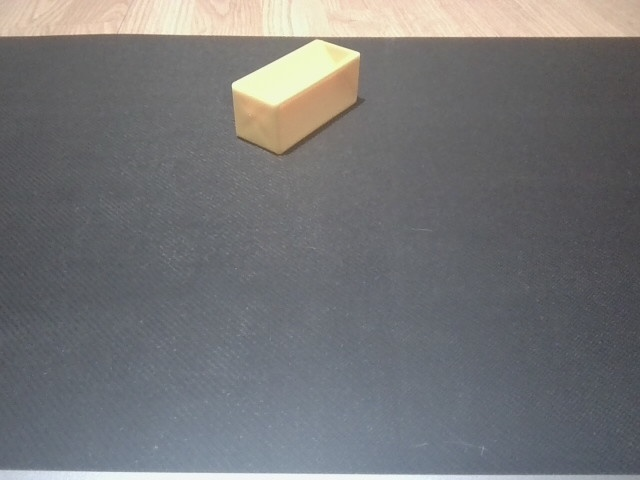YellowSample: (225, 38, 366, 158)
